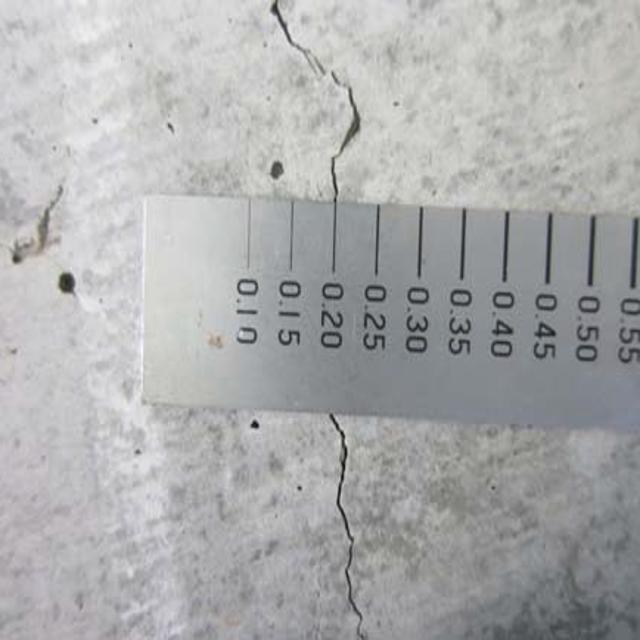crack: (266, 7, 393, 244), (314, 420, 397, 636)
